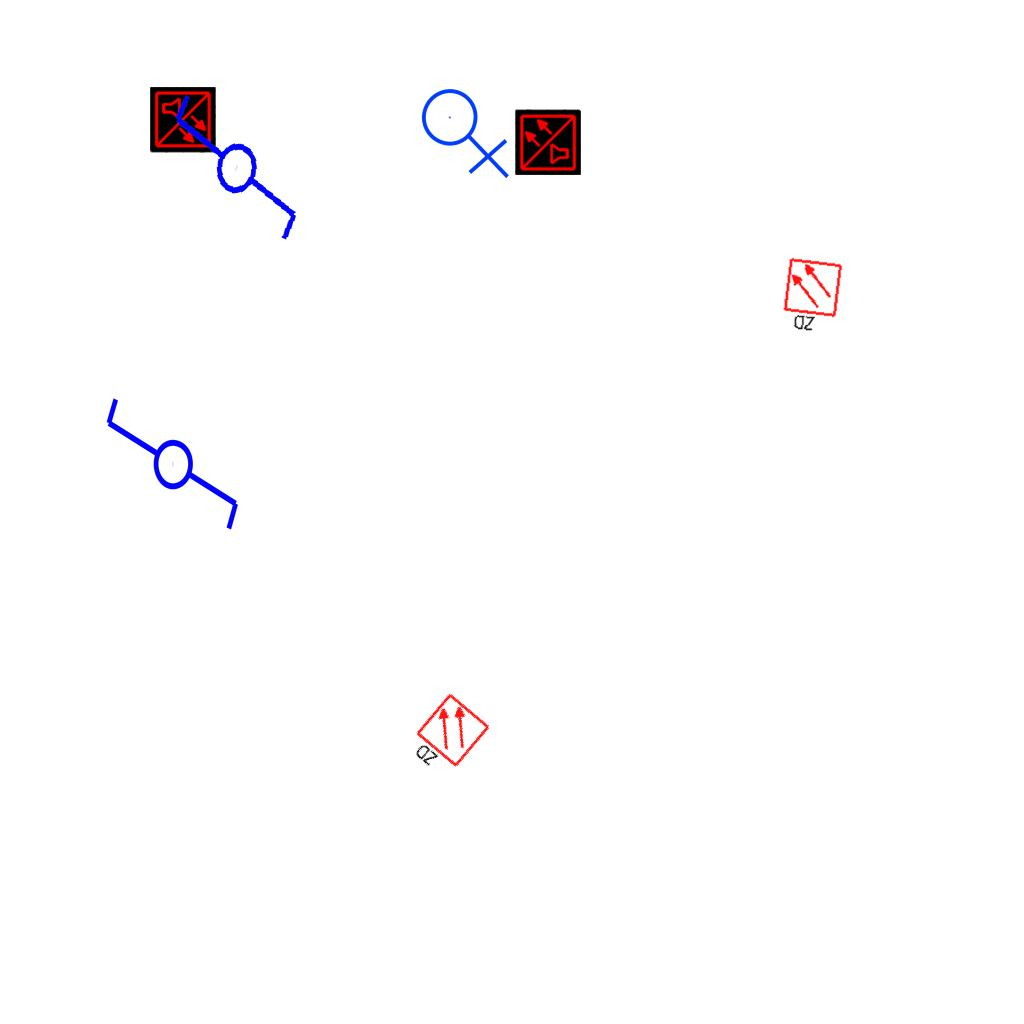Elektroanschluss_allgemein_230V_Geraeteanschlussdose_230V: (420, 80, 514, 179)
OKW_Multisensormelder_(Kombination_optischer_Rauch-Kahlenmonoxid_Waerme-Melder): (150, 87, 216, 153), (515, 109, 581, 175)
Wechselschalter: (152, 89, 315, 263), (99, 394, 243, 551)
ZD_Melder_in_Zwischendecke_mit_Revisionsoeffnung_mind_40_x_40_cm: (401, 691, 494, 785), (779, 256, 846, 338)
